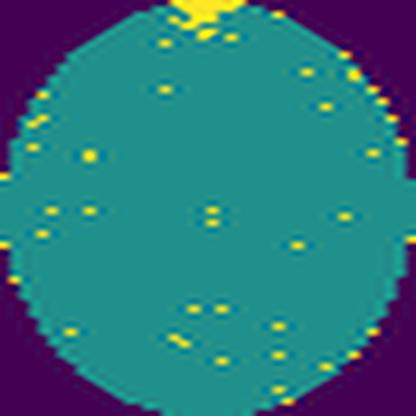Edge-Loc: (168, 0, 251, 32)
